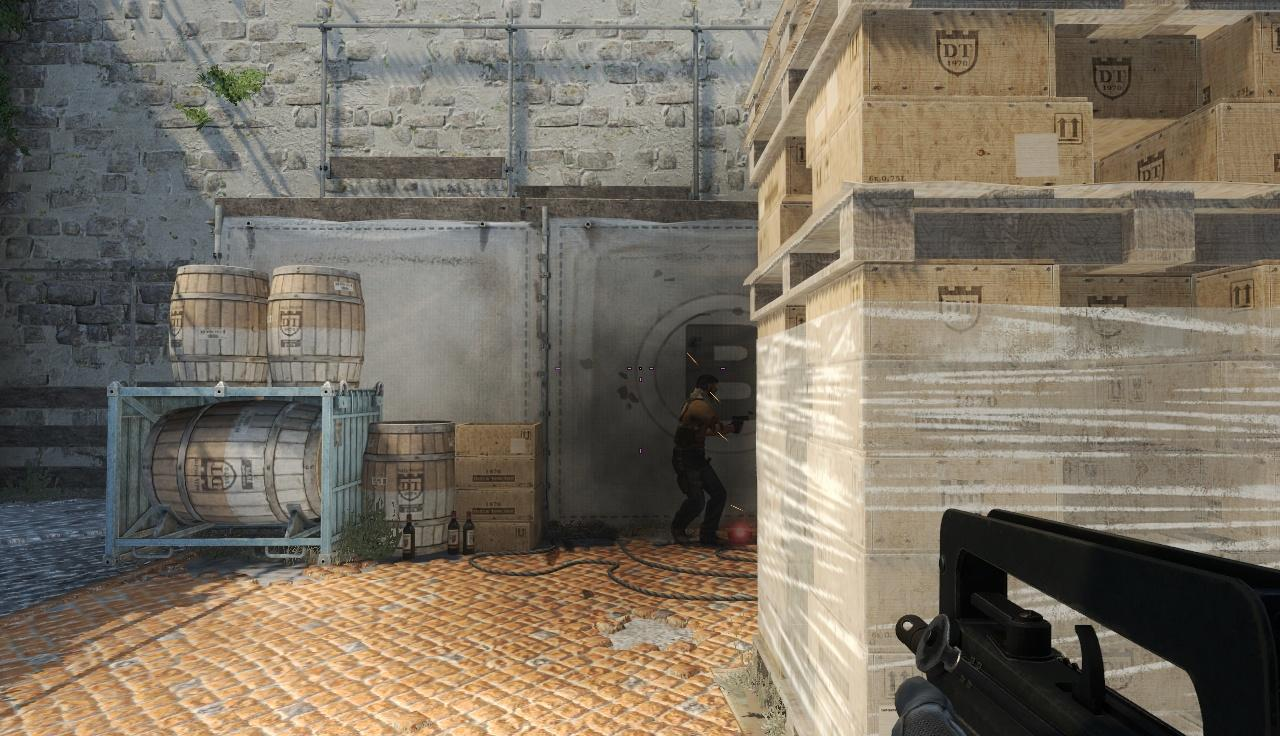rifle: (901, 514, 1280, 736)
tt: (672, 376, 727, 556)
tthead: (697, 376, 720, 403)
